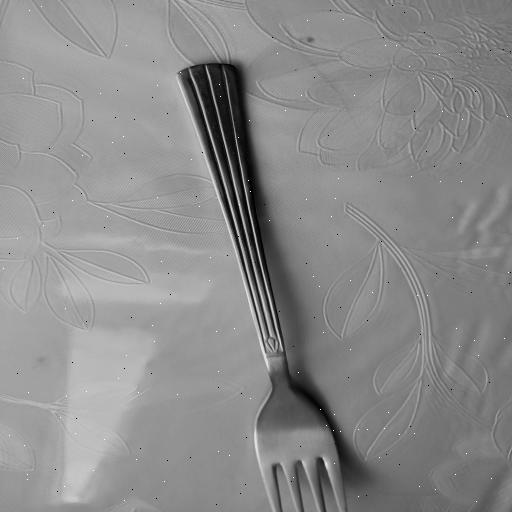fork: (169, 60, 351, 512)
